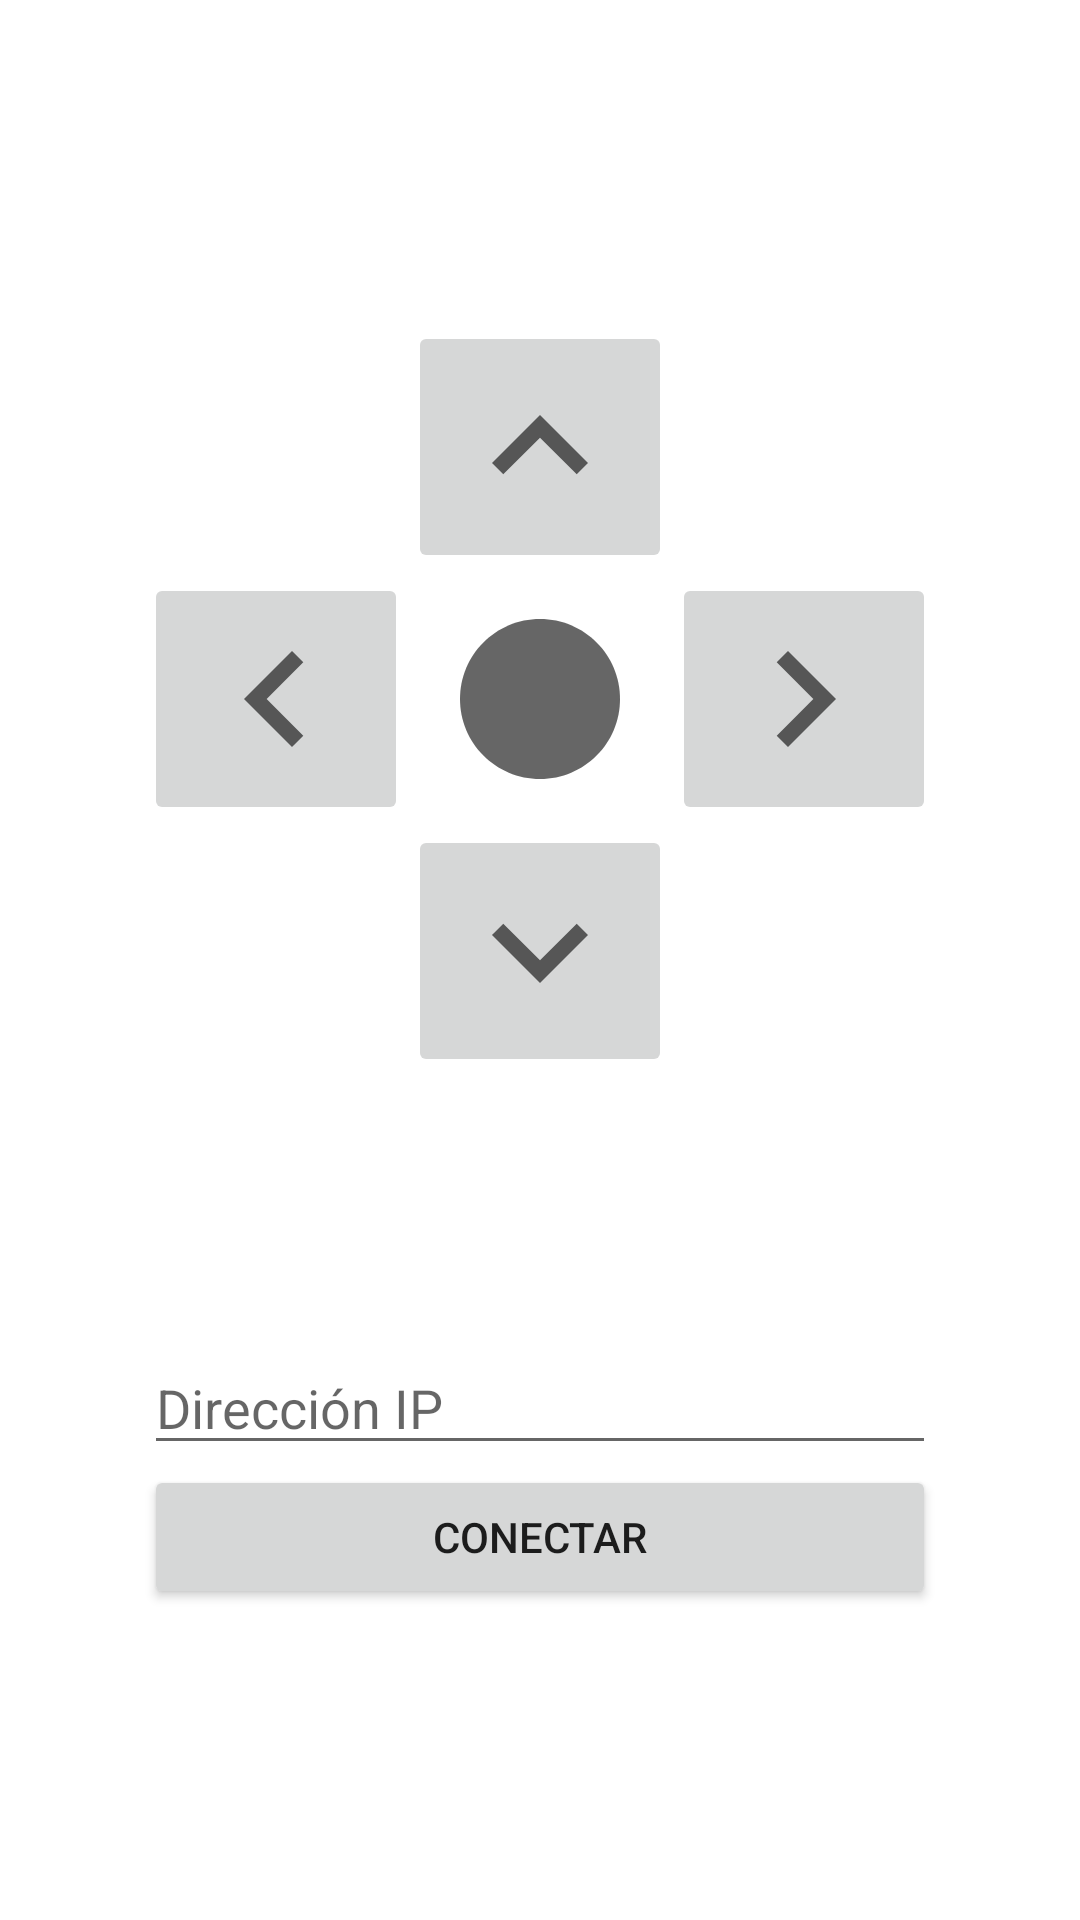

Named icons in this screenshot (1080w x 1920h) and their centers, point (x, y):
keyboard arrow down: point (540, 951)
keyboard arrow left: point (276, 699)
keyboard arrow right: point (804, 699)
keyboard arrow up: point (540, 447)
